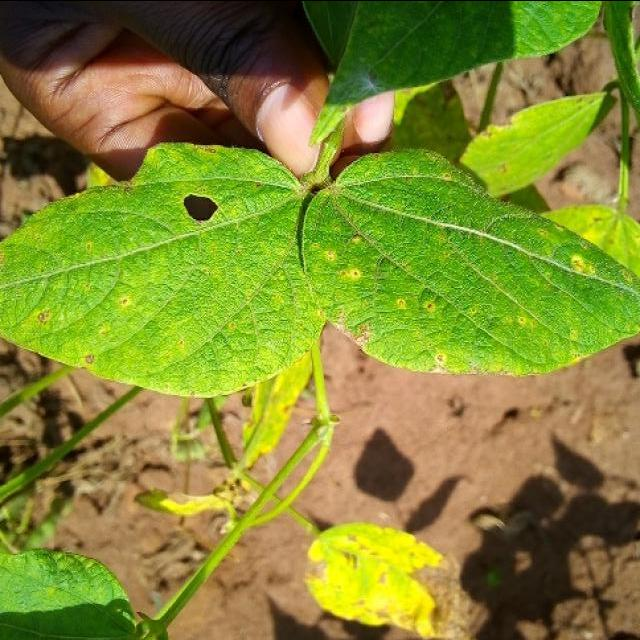mozaik: (163, 157, 275, 254)
